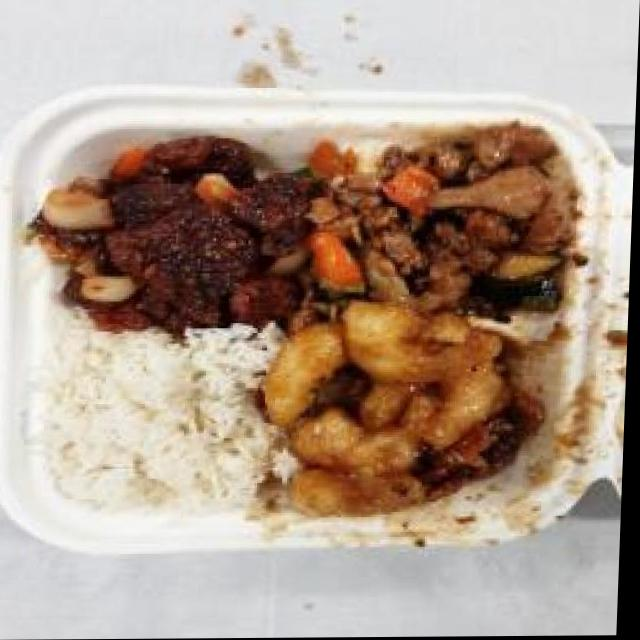Beijing Beef: (33, 128, 314, 335)
Honey Walnut Shrimp: (258, 297, 534, 521)
Kung Pao Chicken: (295, 121, 601, 333)
White Steamed Rice: (40, 331, 268, 513)
